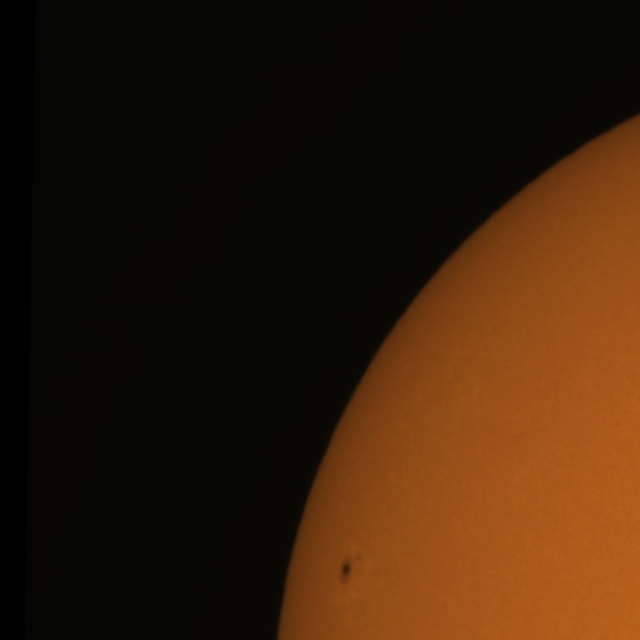sunspot: (339, 551, 363, 585)
